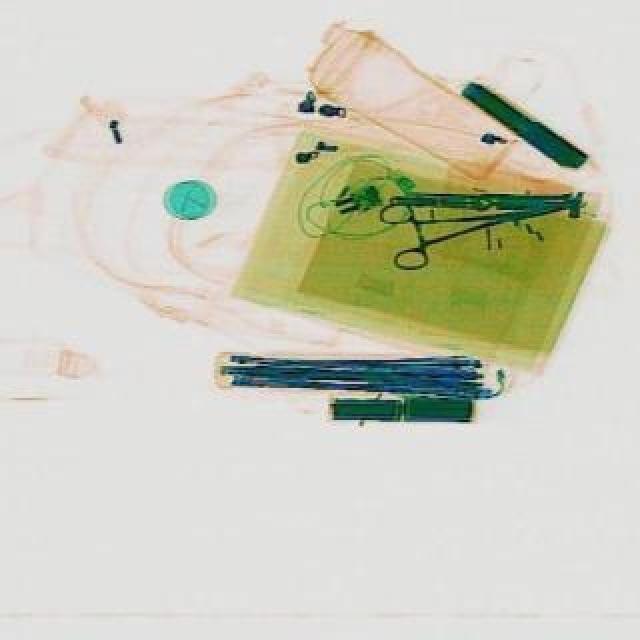pliers: (378, 170, 584, 272)
